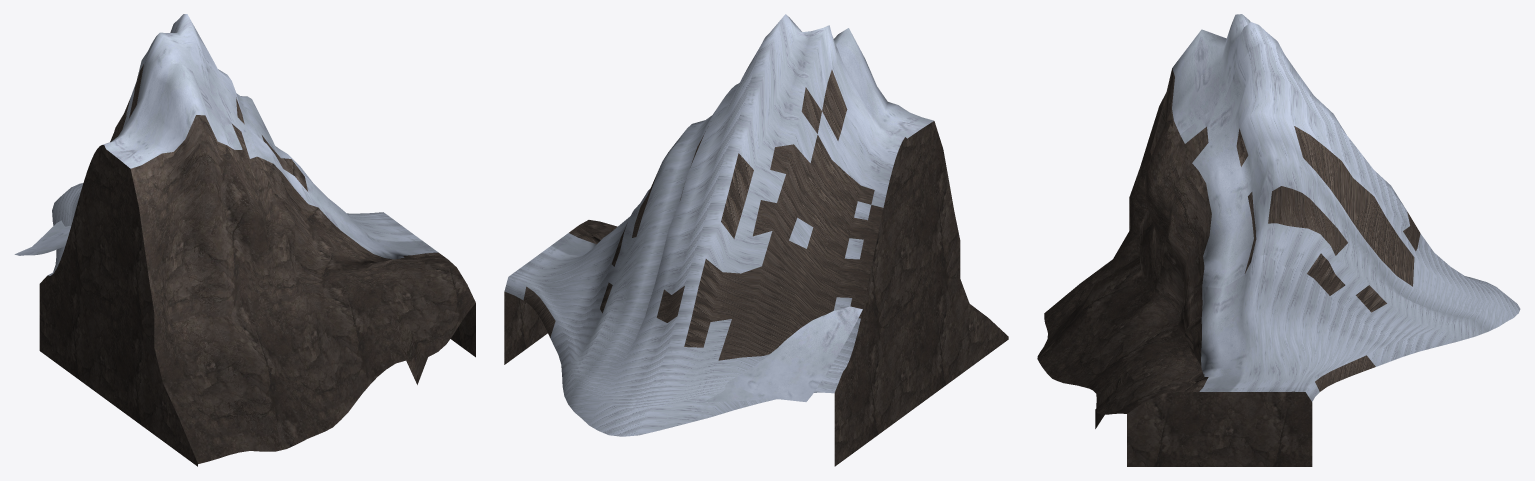
The model's file is seacliff_endcap_right_h3_b_v5_winter.glb.
The picture shows the model from 3 angles, left to right: view 1: azimuth 30°, elevation 25°; view 2: azimuth 150°, elevation 25°; view 3: azimuth 270°, elevation 25°; orthographic projection. The views are drawn at different scales.
Parts seen in each view (by area): view 1: seacliff_endcap_right_h3_b; view 2: seacliff_endcap_right_h3_b; view 3: seacliff_endcap_right_h3_b.
Part boxes in pixels (bbox=[...]): seacliff_endcap_right_h3_b: bbox=[14, 14, 475, 466]; seacliff_endcap_right_h3_b: bbox=[504, 14, 1008, 466]; seacliff_endcap_right_h3_b: bbox=[1037, 14, 1520, 466].
Bounding box in the file's own units: 6 × 6.31 × 8.11.
Materials: 2 (2 with a texture image).
